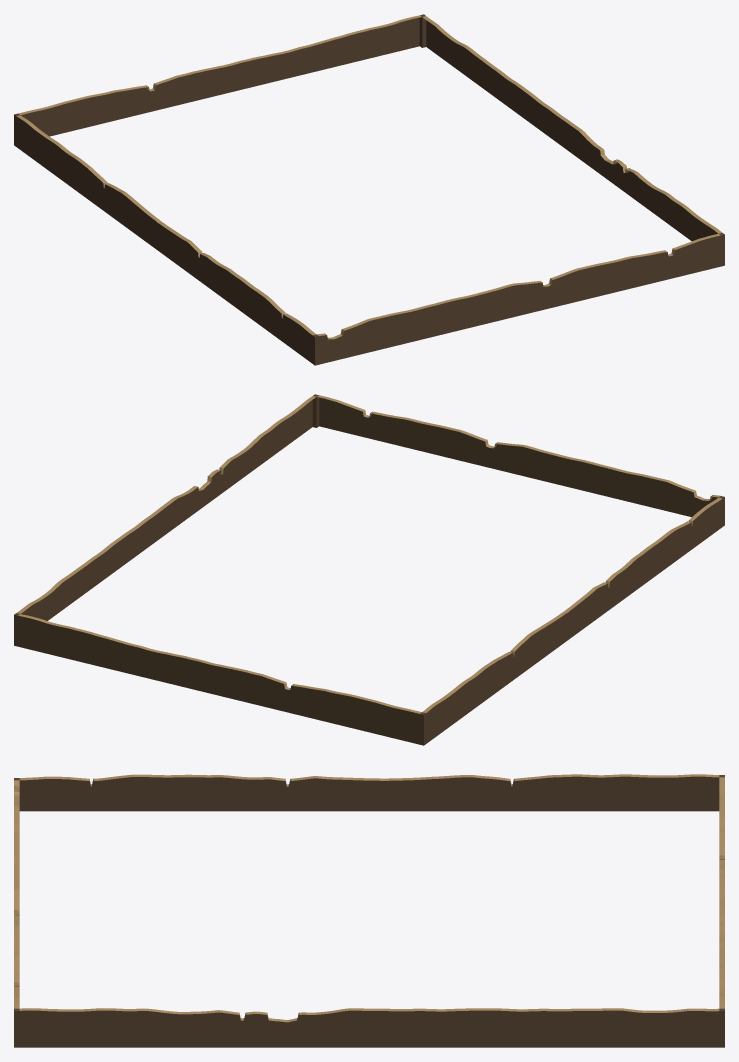
The picture shows the model from 3 angles, top to bottom: view 1: azimuth 30°, elevation 25°; view 2: azimuth 150°, elevation 25°; view 3: azimuth 270°, elevation 25°; orthographic projection. The views are drawn at different scales.
Bounding box in the file's own units: 18.47 × 1.36 × 23.49.
